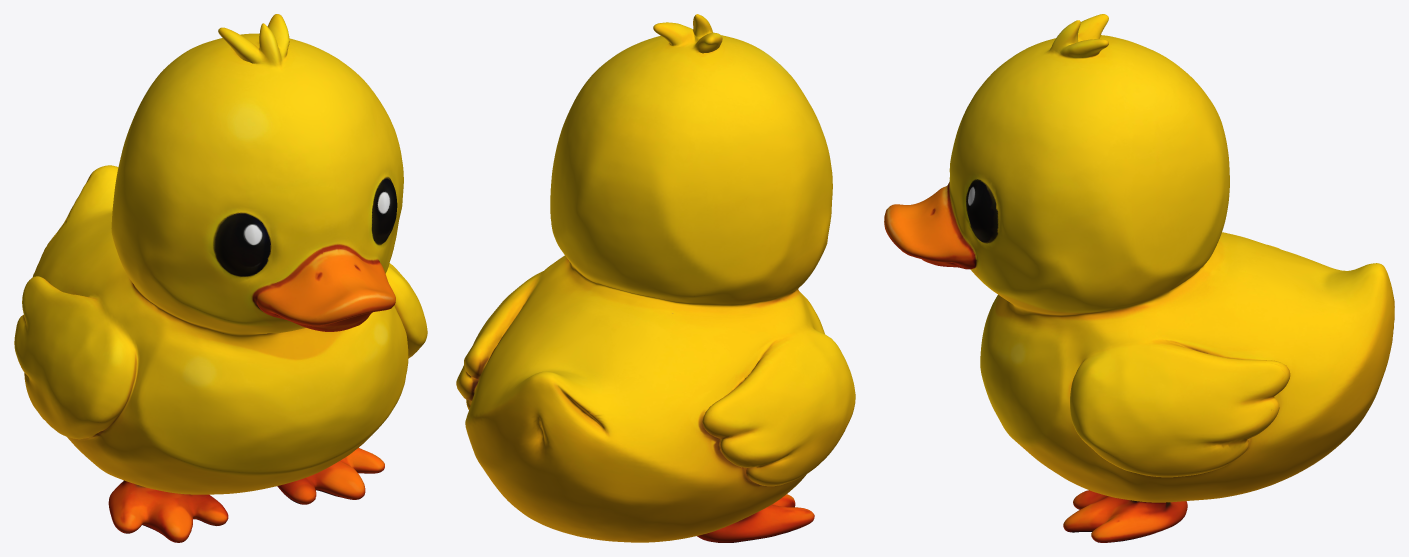
File: cute_chick_3d_model_Clone1.fbx
The picture shows the model from 3 angles, left to right: view 1: azimuth 30°, elevation 25°; view 2: azimuth 150°, elevation 25°; view 3: azimuth 270°, elevation 25°; orthographic projection. The views are drawn at different scales.
Visible parts, largest first — view 1: tripo_node_1a31d074; view 2: tripo_node_1a31d074; view 3: tripo_node_1a31d074.
Boxes of the visible parts, x1,y1,x2,y2 form: tripo_node_1a31d074: (14, 14, 427, 542); tripo_node_1a31d074: (456, 14, 855, 542); tripo_node_1a31d074: (884, 14, 1394, 542).
Size of the model in its own units: 74.36 by 99.73 by 97.96.
1 material, 1 textured.
